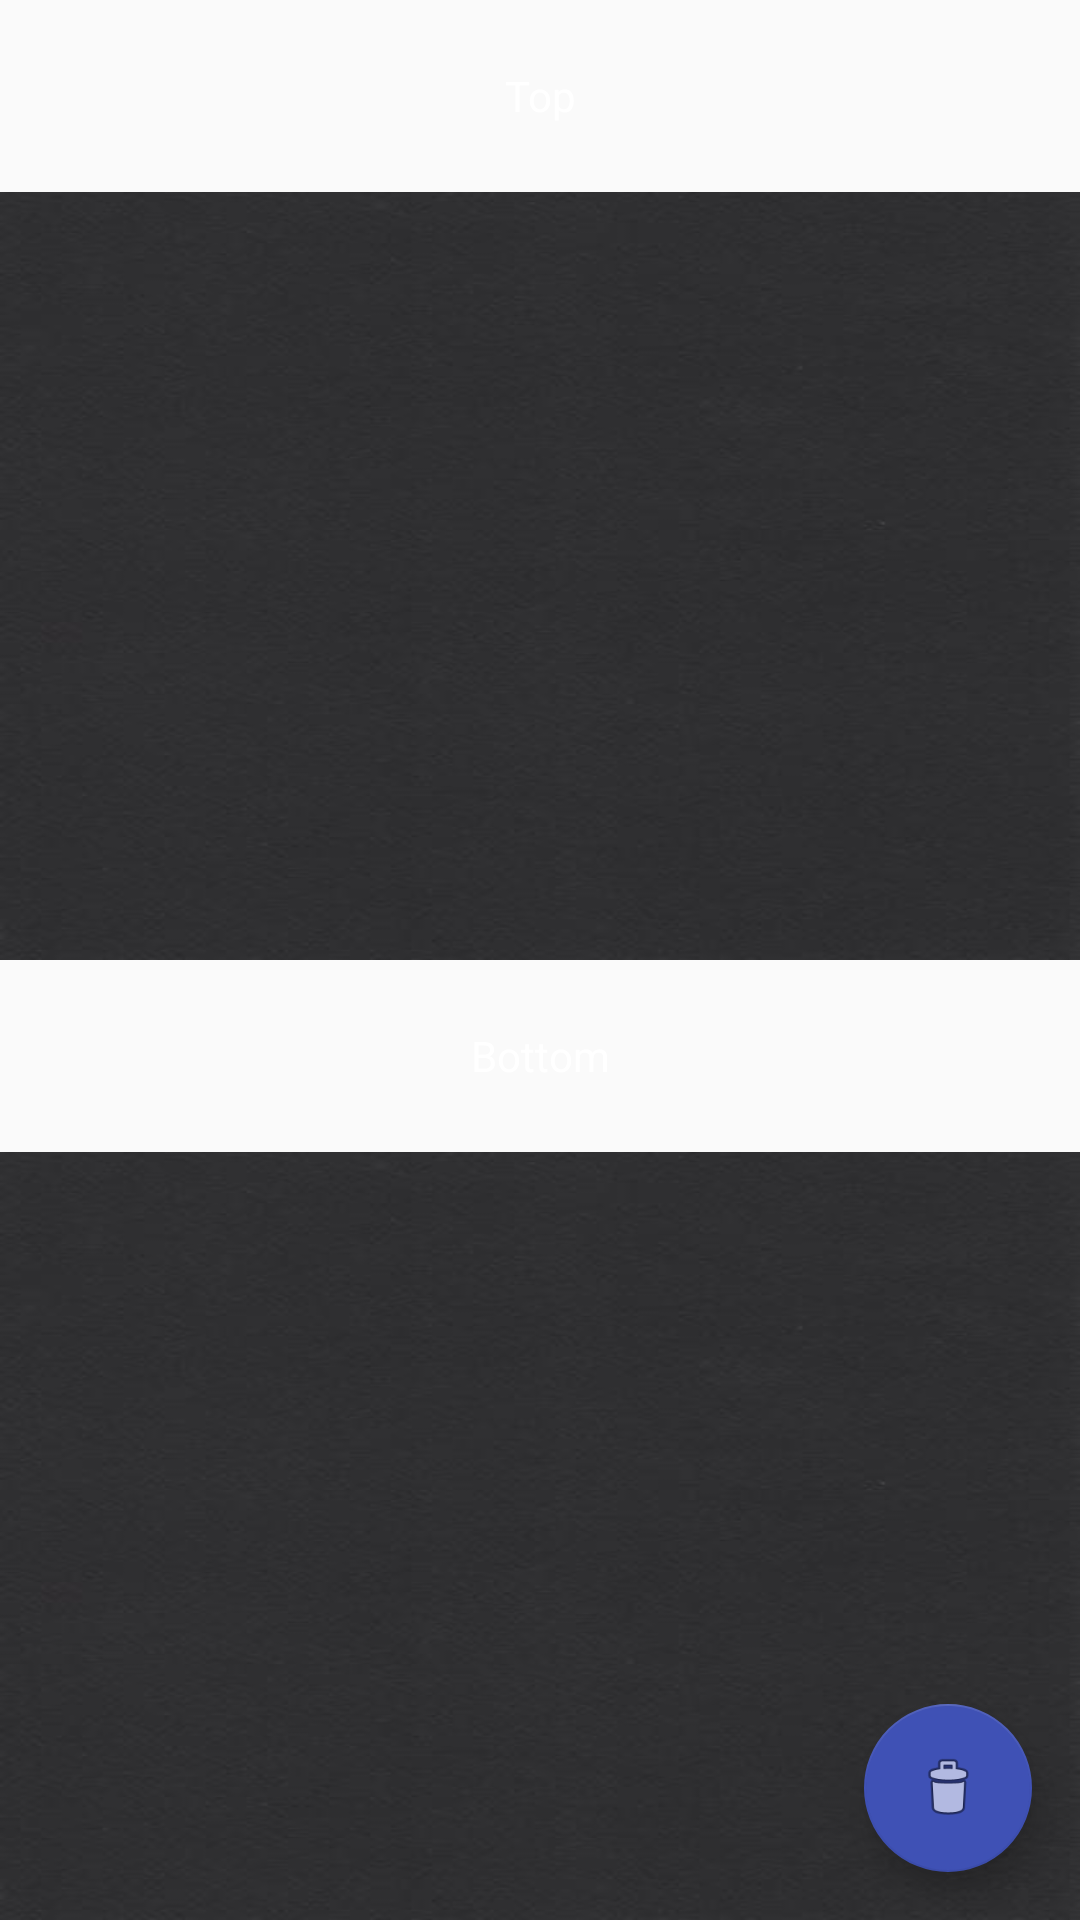

Locate icon controls on the screen. Image size 1080px×1920px, boxes as region(x1, y1, x2, y2).
delete: region(864, 1704, 1032, 1872)
